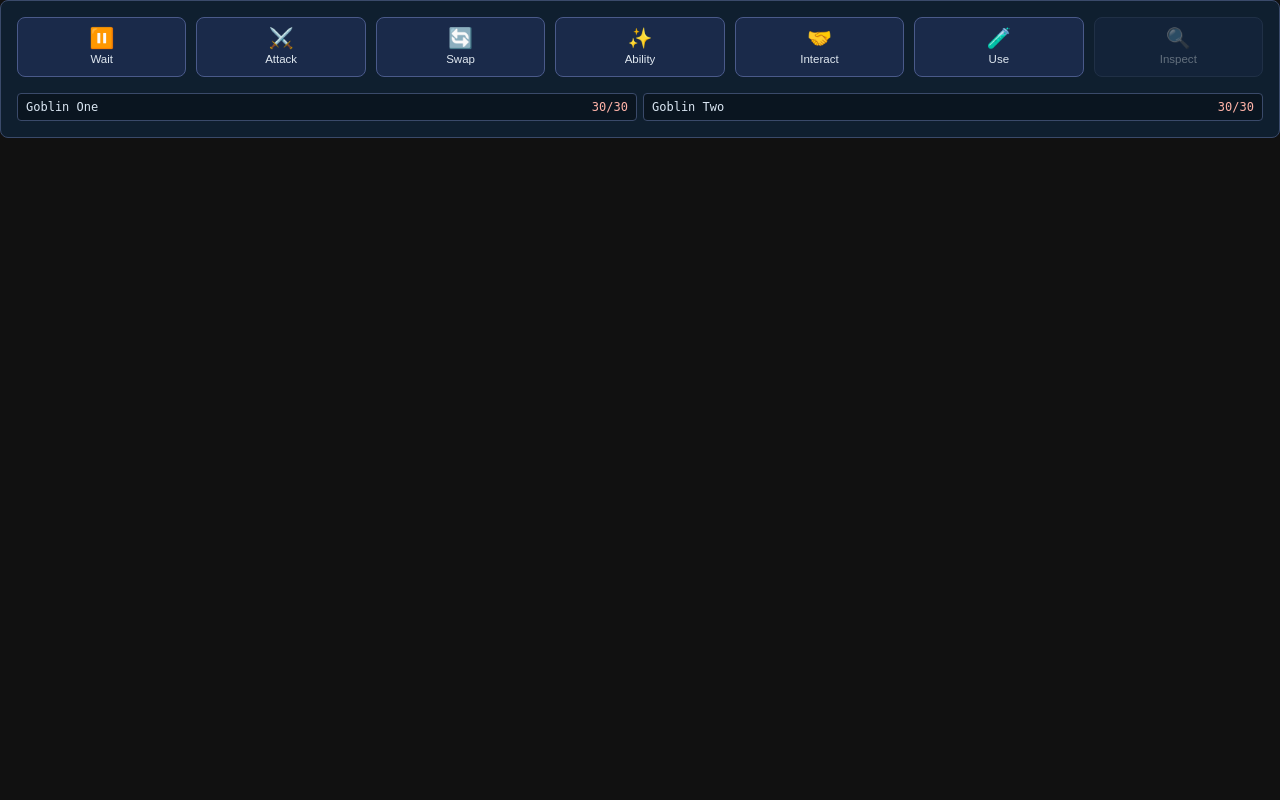
Test: UnifiedActionPanel › Dropdown Actions › closes attack dropdown when Cancel clicked
Click the button "⚔️ Attack": click(281, 47) [196,17,366,76]
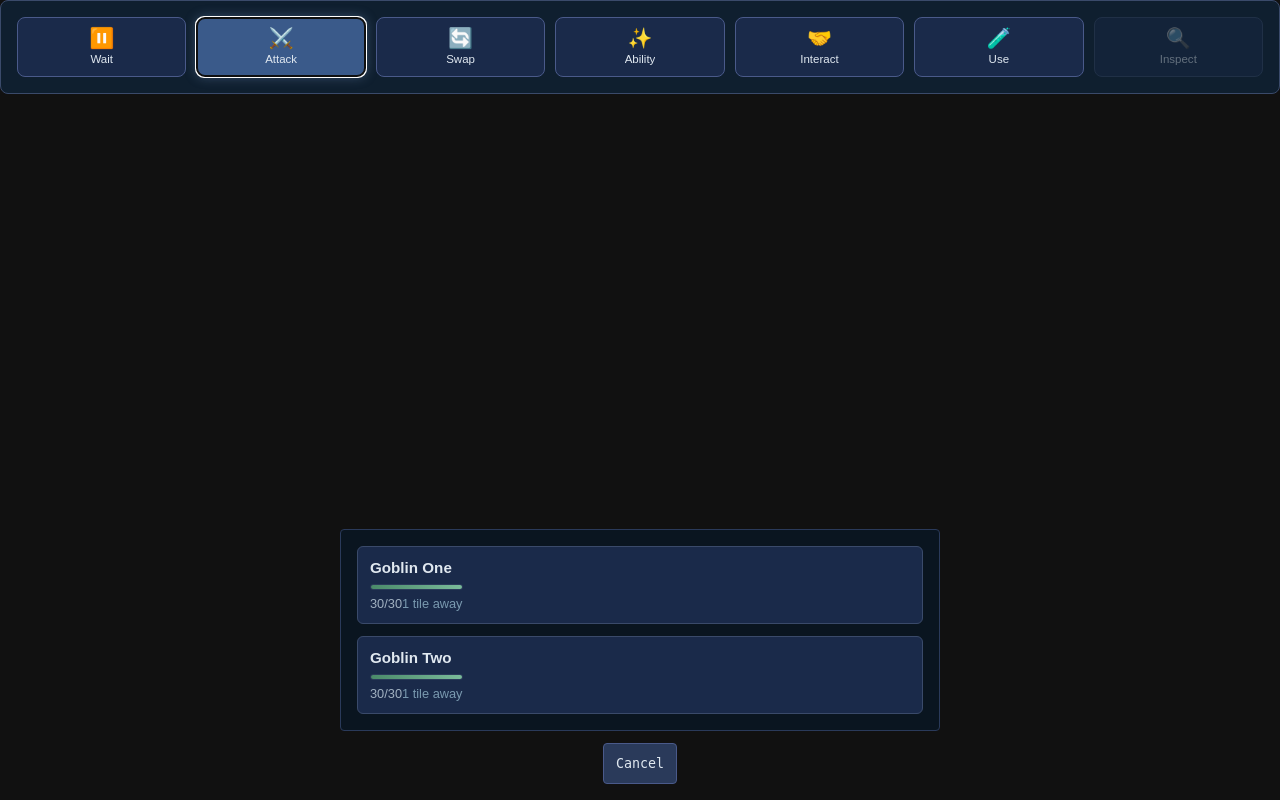
Result: the dialog is shown at [340,529,940,784]
Note: Click Cancel
Click the button "Cancel": click(640, 764) [603,743,677,784]
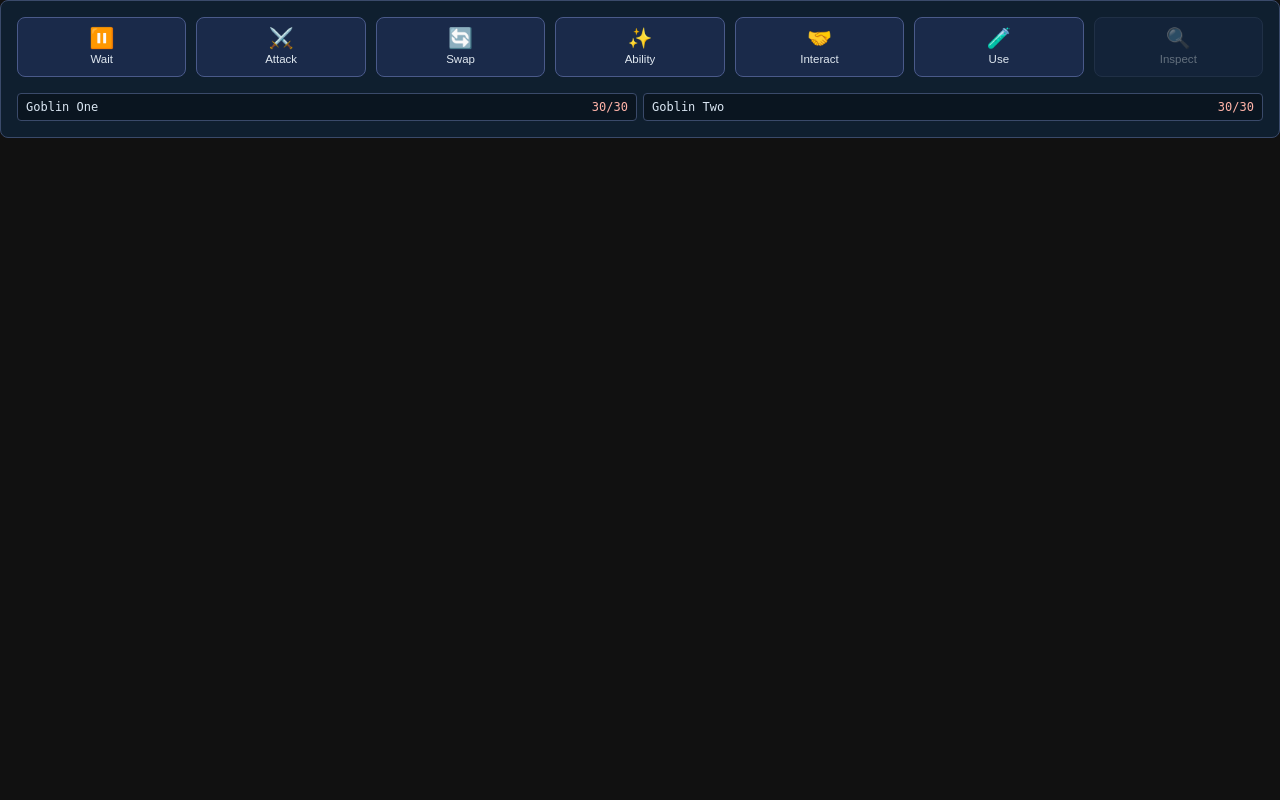
Result: the dialog is gone
